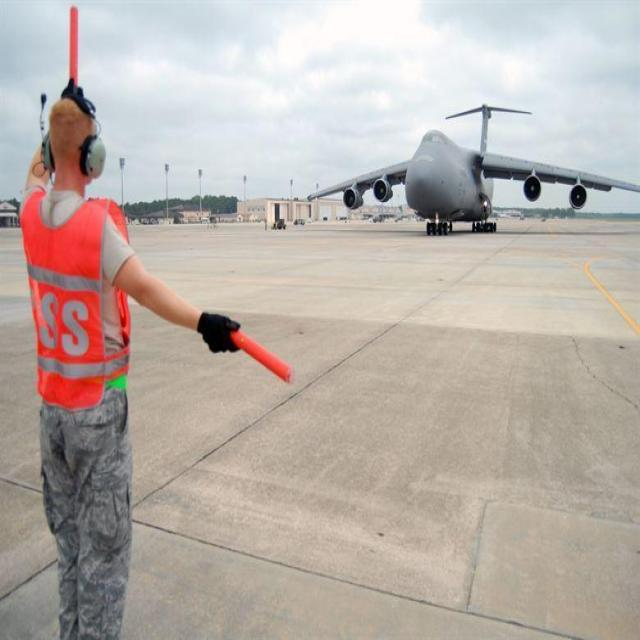Vest: (20, 185, 134, 421)
